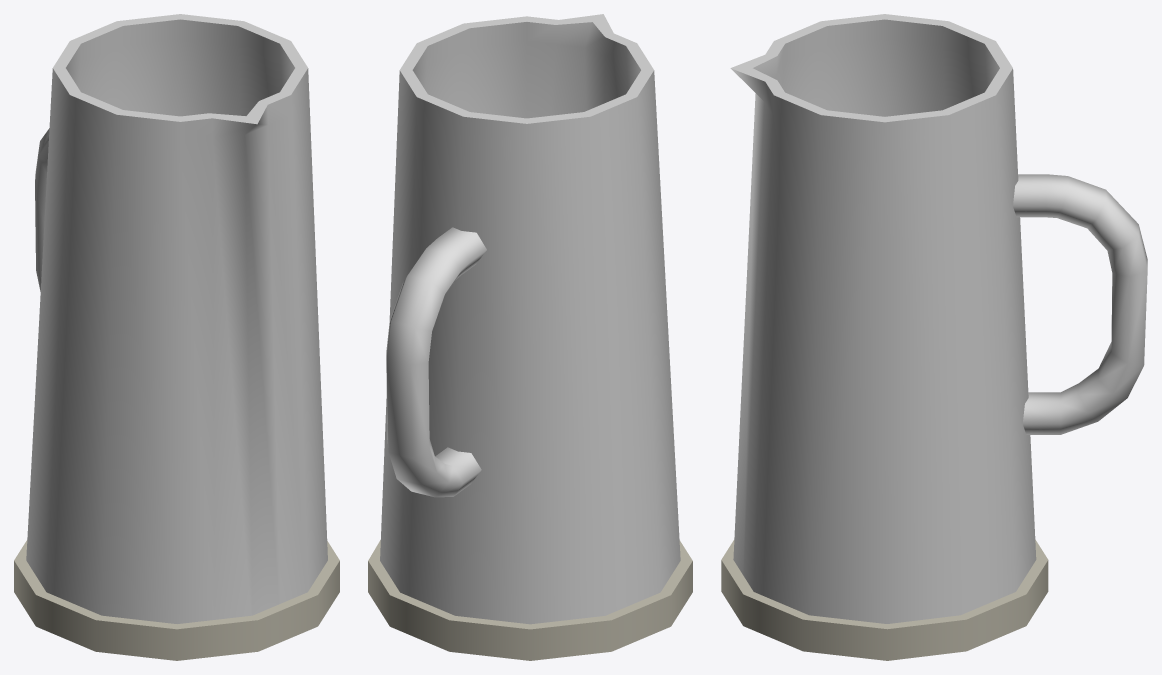
The model's file is GlassJug_01.fbx.
The picture shows the model from 3 angles, left to right: view 1: azimuth 30°, elevation 25°; view 2: azimuth 150°, elevation 25°; view 3: azimuth 270°, elevation 25°; orthographic projection.
Visible parts, largest first — view 1: GlassJug_01; view 2: GlassJug_01; view 3: GlassJug_01.
Part boxes in pixels (bbox=[...]): GlassJug_01: bbox=[14, 14, 339, 660]; GlassJug_01: bbox=[368, 14, 692, 660]; GlassJug_01: bbox=[721, 14, 1147, 660].
Bounding box in the file's own units: 0.1646 × 0.291 × 0.2141.
